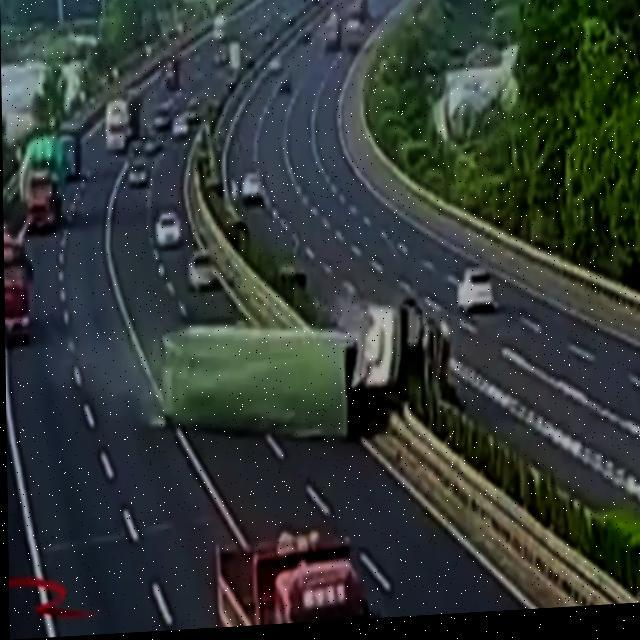single accident: (138, 278, 467, 483)
